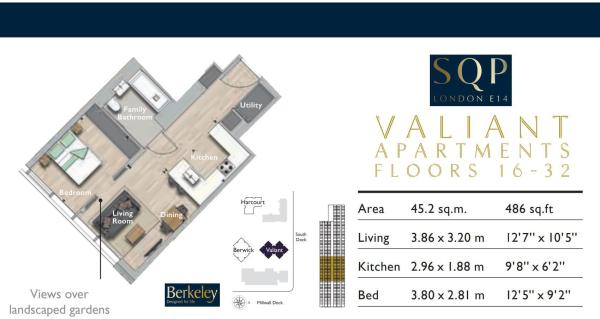GrossArea: (355, 197, 556, 219)
